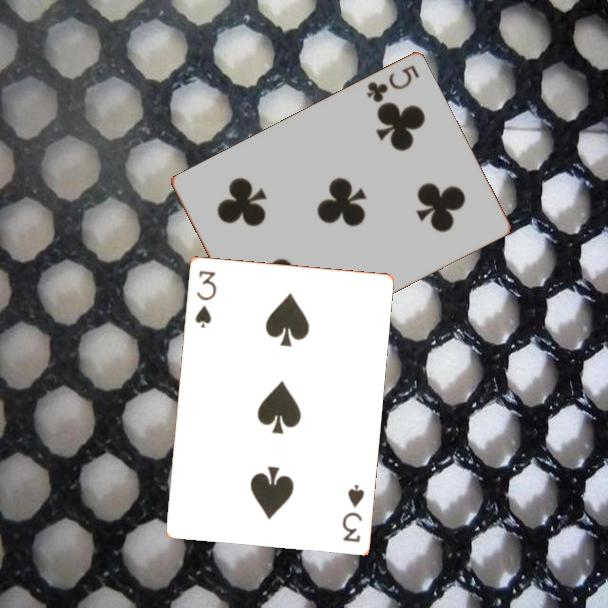c05: (363, 62, 422, 106)
s03: (339, 481, 367, 545), (191, 267, 219, 330)
